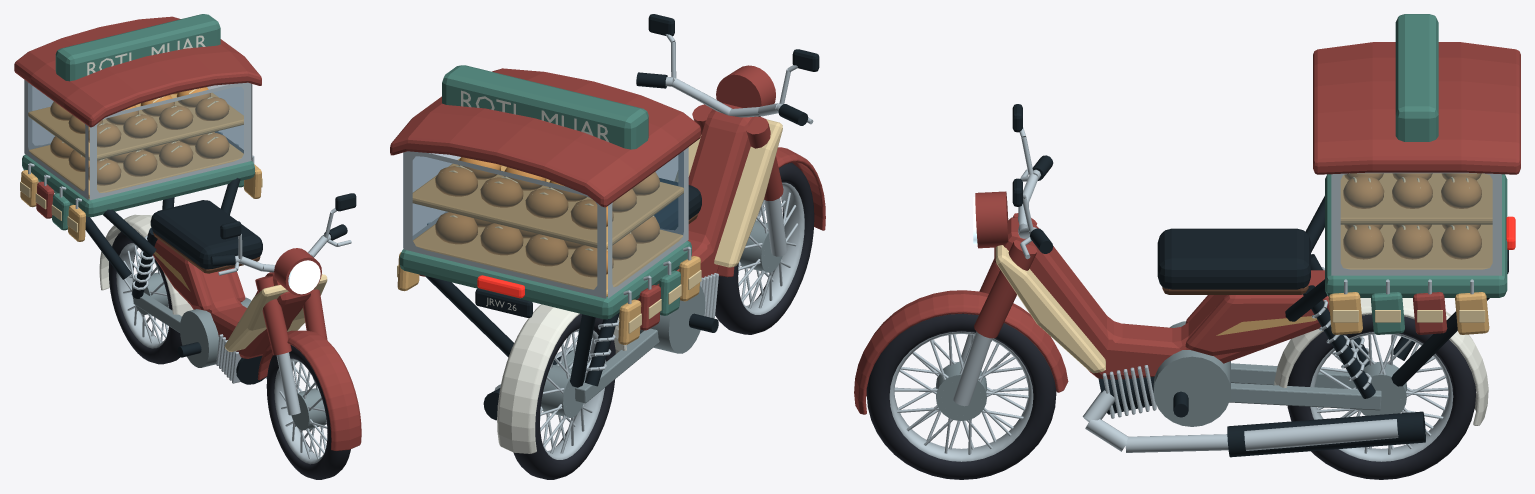
3 renders of one model, left to right at view 1: azimuth 30°, elevation 25°; view 2: azimuth 150°, elevation 25°; view 3: azimuth 270°, elevation 25°, orthographic. The views are drawn at different scales.
Visible parts, largest first — view 1: Muar Roti Motorbike; view 2: Muar Roti Motorbike; view 3: Muar Roti Motorbike.
Boxes of the visible parts, x1,y1,x2,y2 form: Muar Roti Motorbike: [14, 14, 361, 479]; Muar Roti Motorbike: [390, 14, 825, 479]; Muar Roti Motorbike: [854, 14, 1520, 479].
Size of the model in its own units: 0.859 by 1.39 by 2.01.
